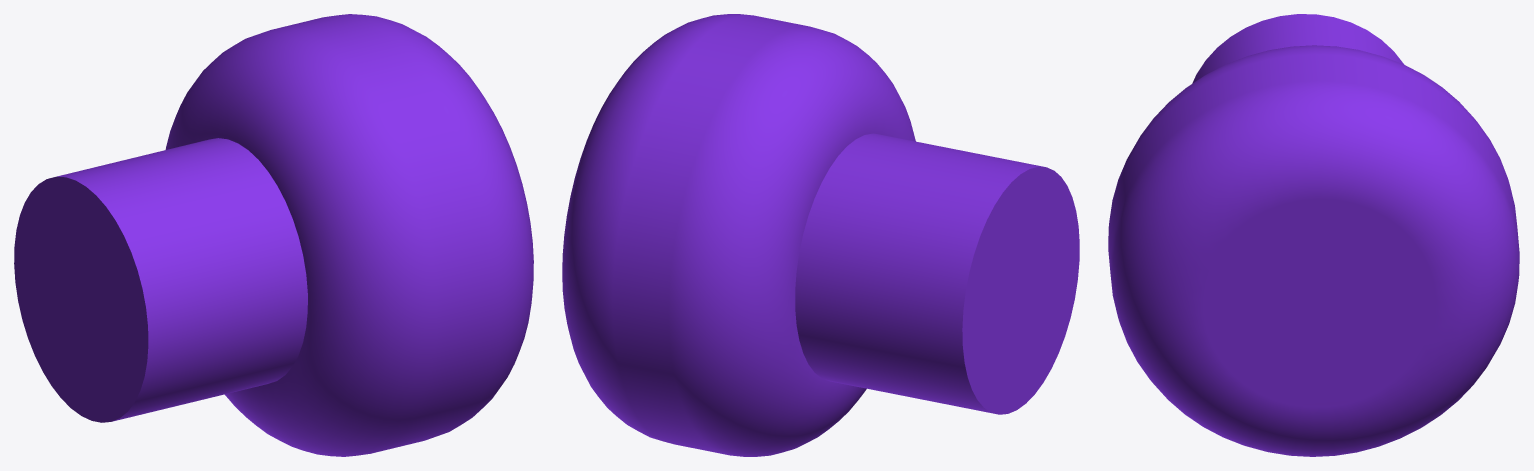
The model's file is poignee.glb.
3 renders of one model, left to right at view 1: azimuth 30°, elevation 25°; view 2: azimuth 150°, elevation 25°; view 3: azimuth 270°, elevation 25°, orthographic. The views are drawn at different scales.
Visible parts, largest first — view 1: opening_door.005; view 2: opening_door.005; view 3: opening_door.005.
Boxes of the visible parts, <box> form: opening_door.005: <box>14,14,533,456</box>; opening_door.005: <box>562,14,1079,456</box>; opening_door.005: <box>1108,14,1519,456</box>.
Size of the model in its own units: 3.85 by 3.73 by 3.73.
